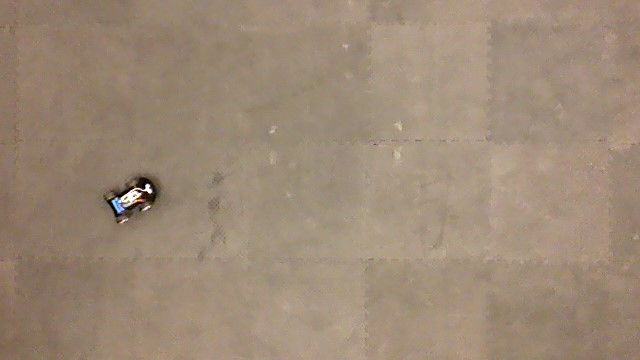Agent: (101, 174, 160, 226)
